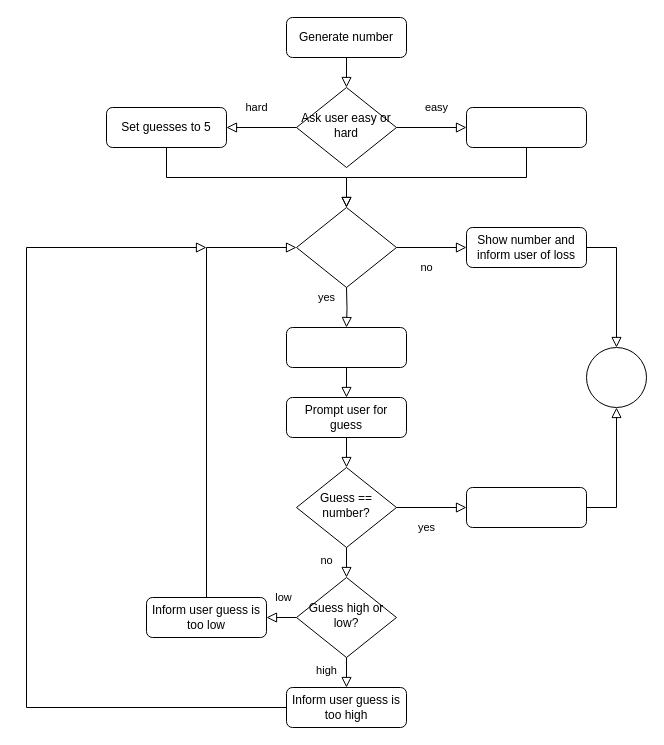
Image size: 664x745. Some labels were removed from this diagram. The shapes that lost their labels are listed below. From the top down, each one's centre as x and y in pixels, then its label:
At pixel 526 127: "Set guesses to 10".
At pixel 346 247: "Number of guesses > 0?".
At pixel 346 347: "Display number of guesses".
At pixel 616 377: "End game".
At pixel 526 507: "Show number and inform user of win".
